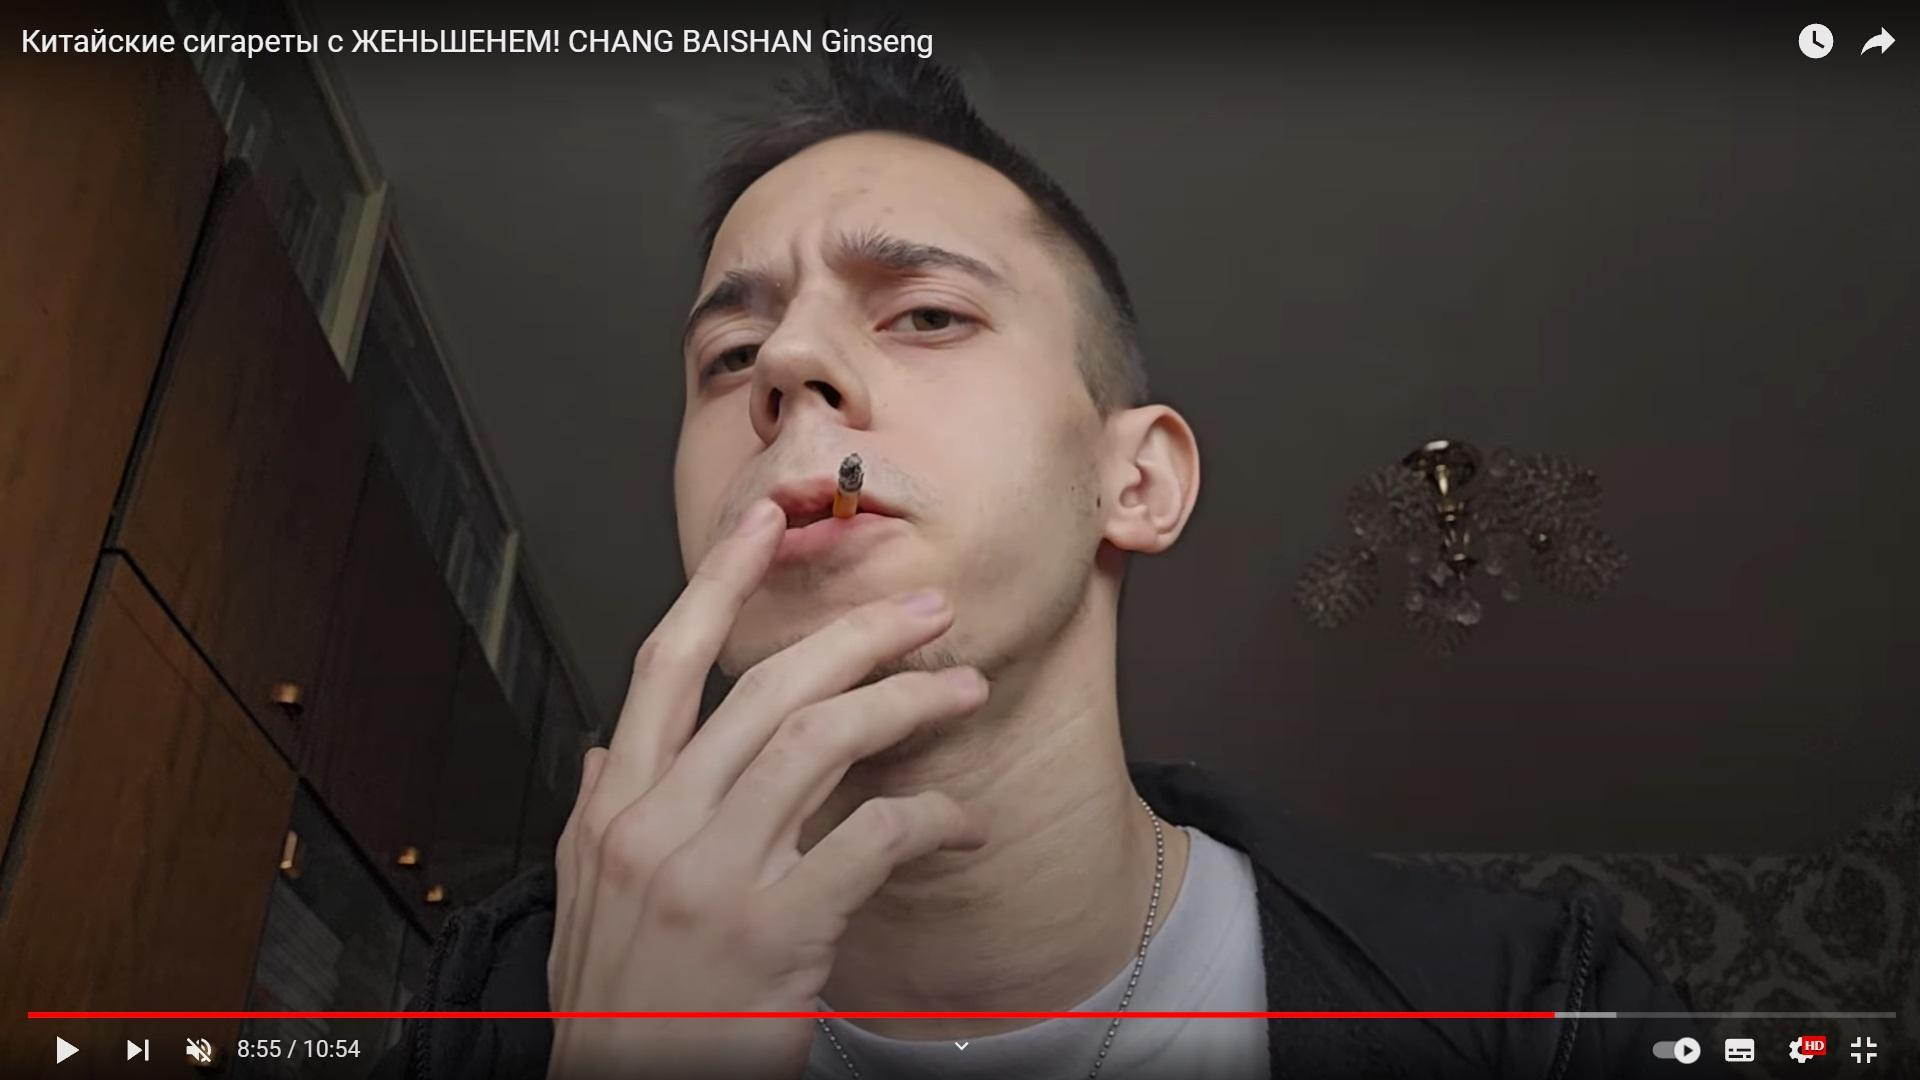cigarette: (832, 451, 865, 520)
